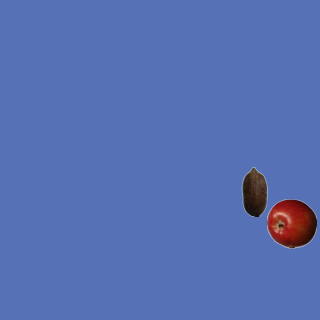Apple Braeburn: (266, 198, 316, 248)
Nut Pecan: (229, 166, 279, 216)
